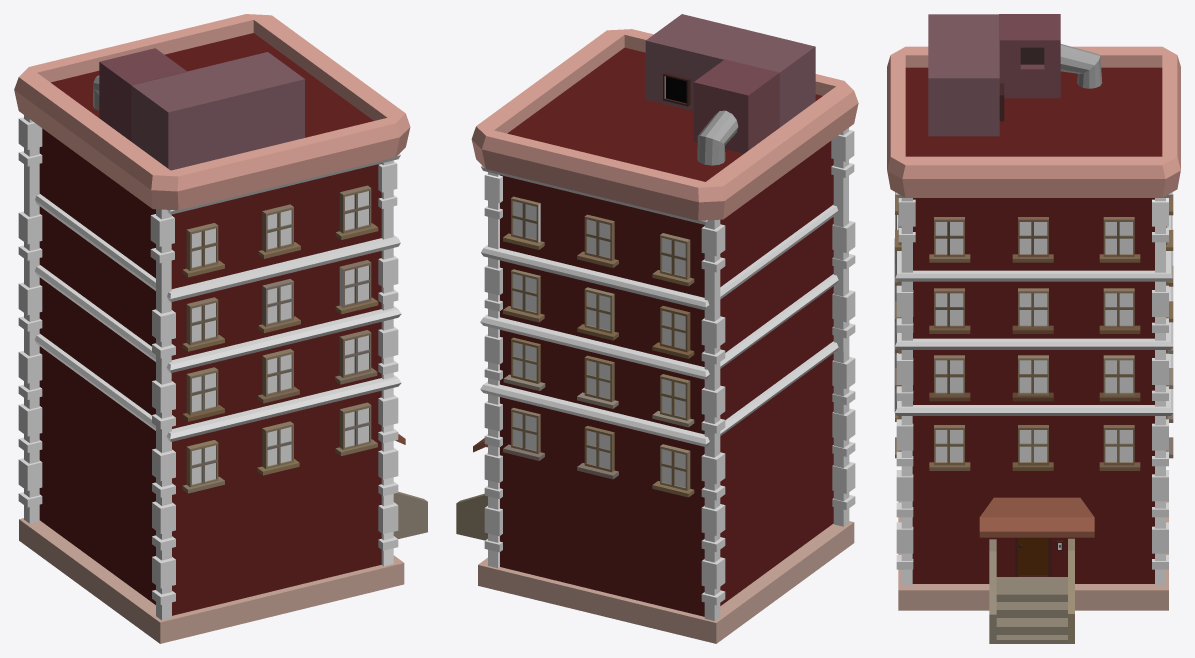
File: house1 2.fbx
The picture shows the model from 3 angles, left to right: view 1: azimuth 30°, elevation 25°; view 2: azimuth 150°, elevation 25°; view 3: azimuth 270°, elevation 25°; orthographic projection. The views are drawn at different scales.
Parts seen in each view (by area): view 1: Cube.001, Cube.106, Cube.159, Cube.146, Cube.147, Cube.148, Cube.108, Cube.158, Cube.157, Cube.155, Cube.244, Cube.156 (+32 smaller); view 2: Cube.001, Cube.159, Cube.106, Cube.108, Cube.146, Cube.147, Cube.148, Cube.157, Cube.158, Cube.286, Cube.156, Cube.155 (+29 smaller); view 3: Cube.001, Cube.106, Cube.108, Cube.159, Cube.109, Cube.147, Cube.146, Cube.148, Cube.246, Cube.087, Cube.286, Cube.284 (+32 smaller).
Boxes of the visible parts, x1,y1,x2,y2 form: Cube.001: [14, 14, 410, 615]; Cube.106: [131, 52, 304, 170]; Cube.159: [19, 518, 404, 643]; Cube.146: [35, 194, 400, 301]; Cube.147: [34, 265, 401, 372]; Cube.148: [34, 334, 401, 441]; Cube.108: [99, 48, 187, 141]; Cube.158: [24, 115, 39, 343]; Cube.157: [156, 209, 171, 439]; Cube.155: [156, 410, 171, 620]; Cube.244: [393, 491, 427, 538]; Cube.156: [24, 313, 39, 523]; Cube.001: [471, 29, 858, 616]; Cube.159: [478, 521, 854, 643]; Cube.106: [645, 14, 815, 127]; Cube.108: [693, 59, 779, 153]; Cube.146: [481, 204, 838, 310]; Cube.147: [480, 274, 838, 379]; Cube.148: [480, 341, 838, 446]; Cube.157: [833, 128, 848, 351]; Cube.158: [704, 219, 720, 445]; Cube.286: [697, 110, 738, 165]; Cube.156: [704, 415, 720, 620]; Cube.155: [833, 321, 849, 526]; Cube.001: [887, 46, 1180, 583]; Cube.106: [928, 14, 999, 136]; Cube.108: [999, 14, 1060, 98]; Cube.159: [898, 501, 1168, 610]; Cube.109: [979, 497, 1094, 537]; Cube.147: [894, 238, 1173, 349]; Cube.146: [895, 215, 1172, 281]; Cube.148: [894, 347, 1173, 415]; Cube.246: [996, 577, 1067, 601]; Cube.087: [1015, 537, 1051, 576]; Cube.286: [1060, 44, 1102, 88]; Cube.284: [996, 618, 1067, 634].
Size of the model in its own units: 760 by 1160 by 626.
